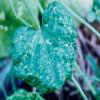Tomato leaf mosaic virus: (12, 6, 76, 92)
